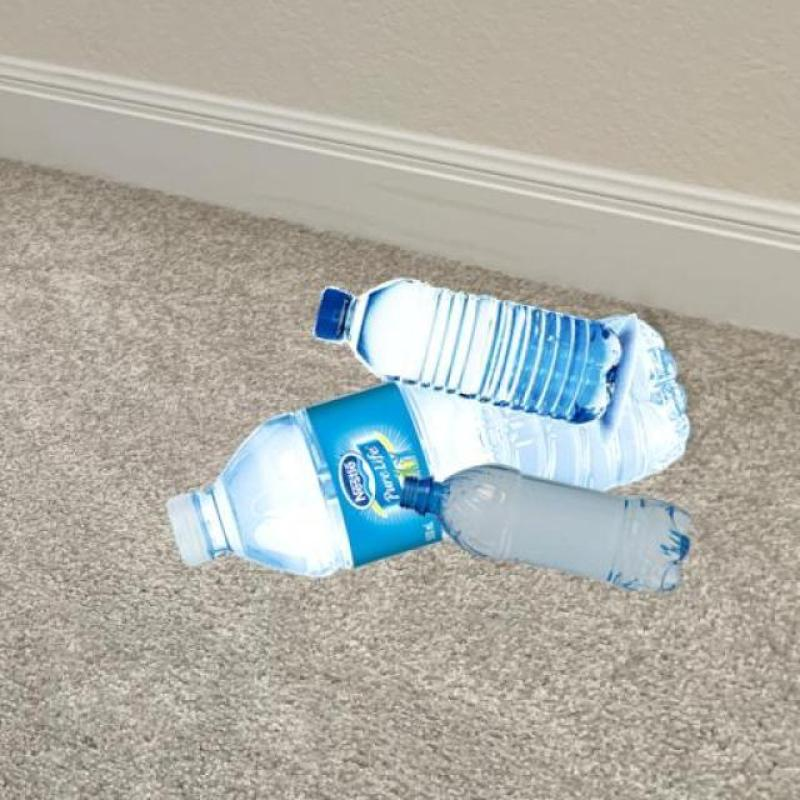botella: (164, 305, 694, 593), (316, 278, 628, 428), (410, 466, 698, 592)
